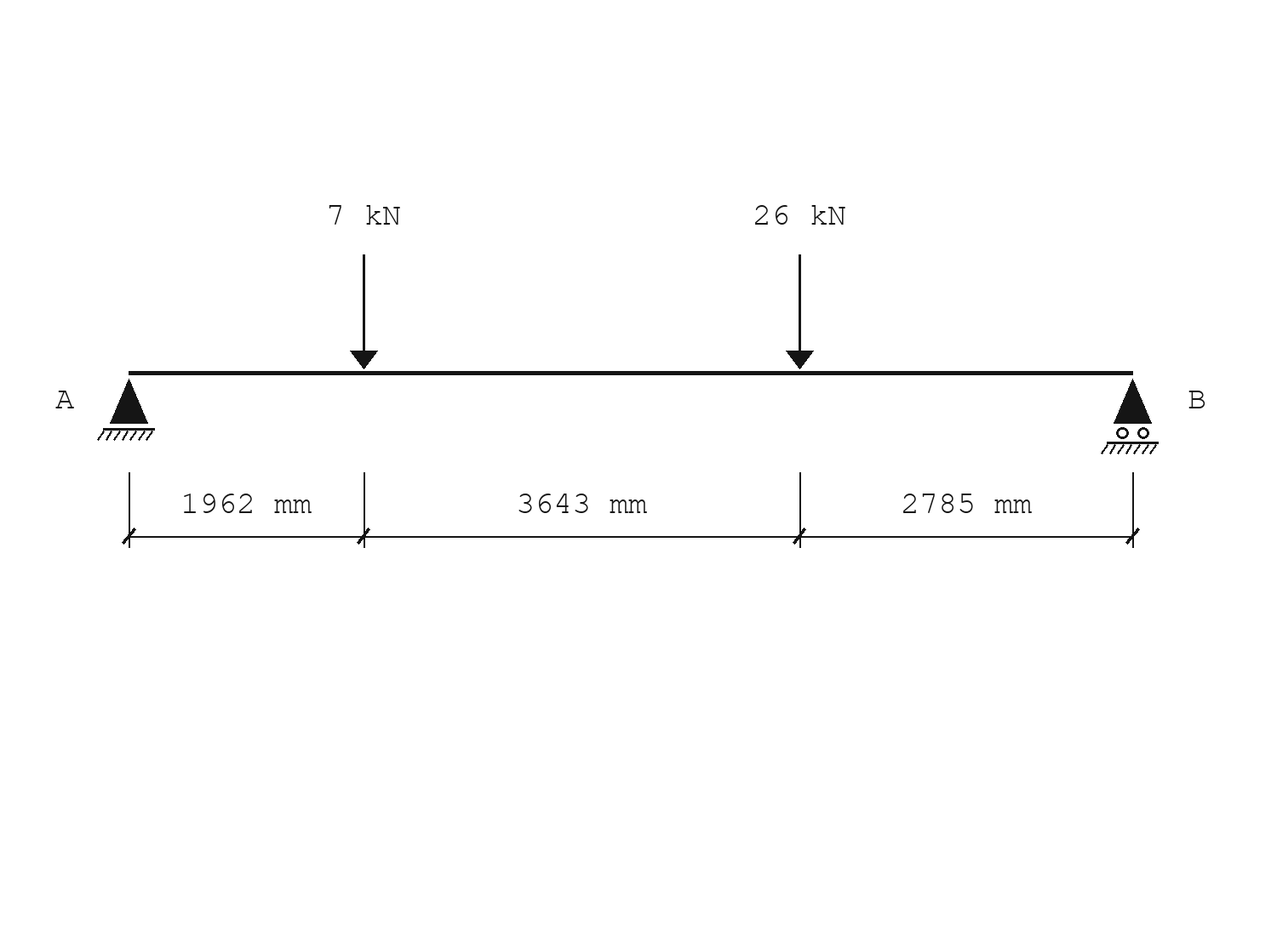pin_support: (97, 379, 155, 441)
point_load: (350, 254, 378, 369), (786, 254, 814, 369)
roller_support: (1101, 379, 1159, 454)
